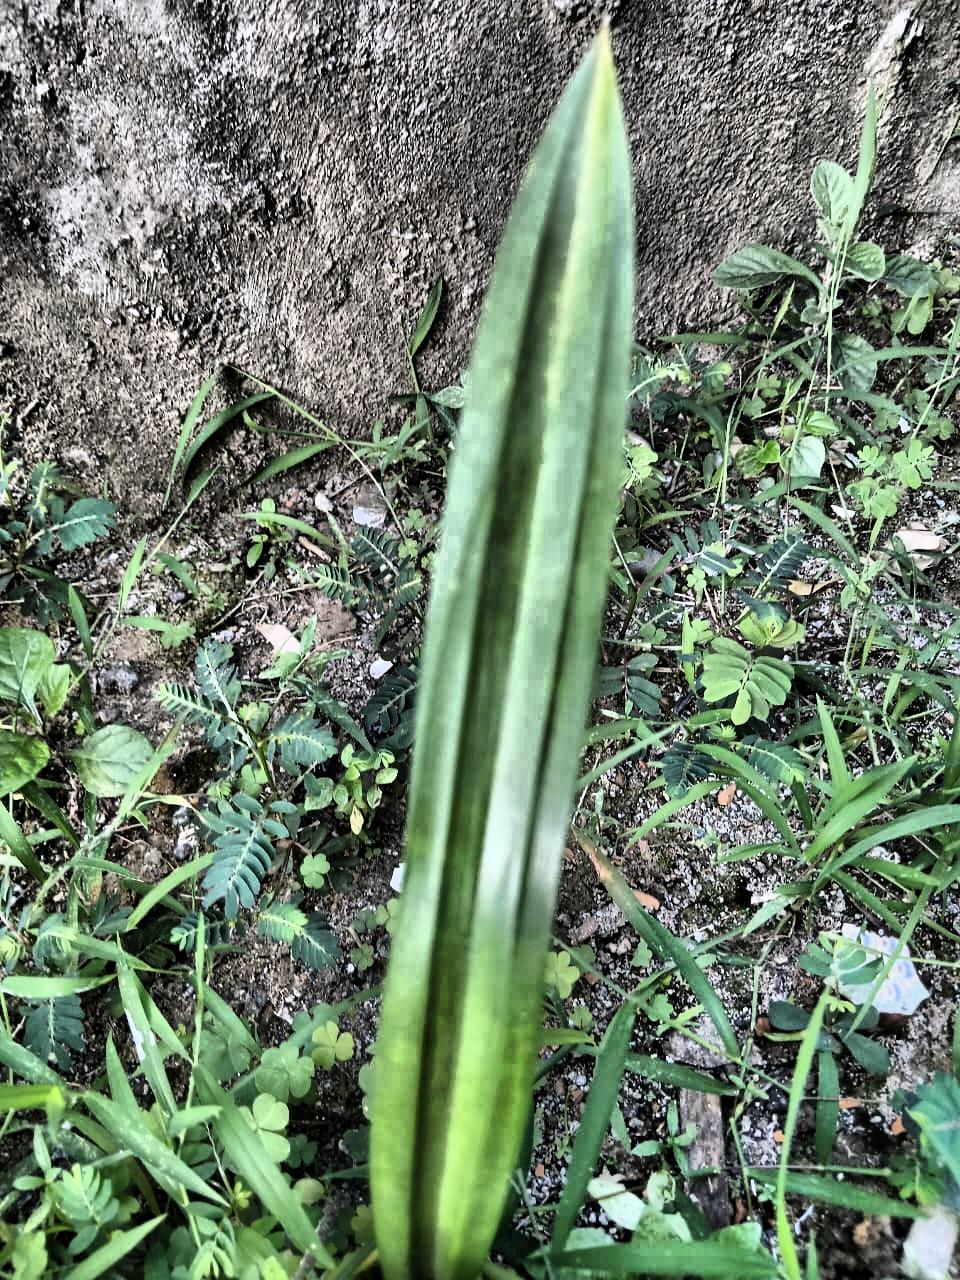daun pandan: (368, 30, 633, 1279)
